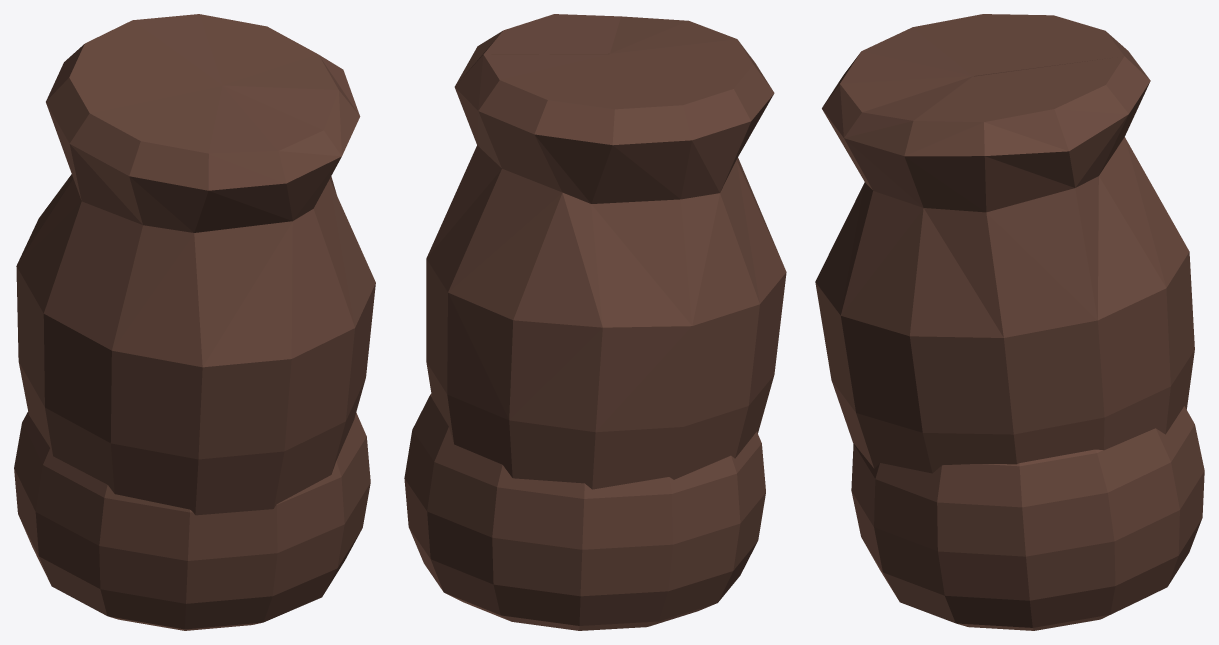
Rendered from basket.glb.
The picture shows the model from 3 angles, left to right: view 1: azimuth 30°, elevation 25°; view 2: azimuth 150°, elevation 25°; view 3: azimuth 270°, elevation 25°; orthographic projection.
Visible parts, largest first — view 1: node_MeshObject1202075648-PolyPaper22; view 2: node_MeshObject1202075648-PolyPaper22; view 3: node_MeshObject1202075648-PolyPaper22.
Boxes of the visible parts, x1,y1,x2,y2 form: node_MeshObject1202075648-PolyPaper22: [14, 14, 375, 630]; node_MeshObject1202075648-PolyPaper22: [404, 14, 786, 630]; node_MeshObject1202075648-PolyPaper22: [815, 14, 1204, 630].
Bounding box in the file's own units: 0.5531 × 0.8755 × 0.5927.
